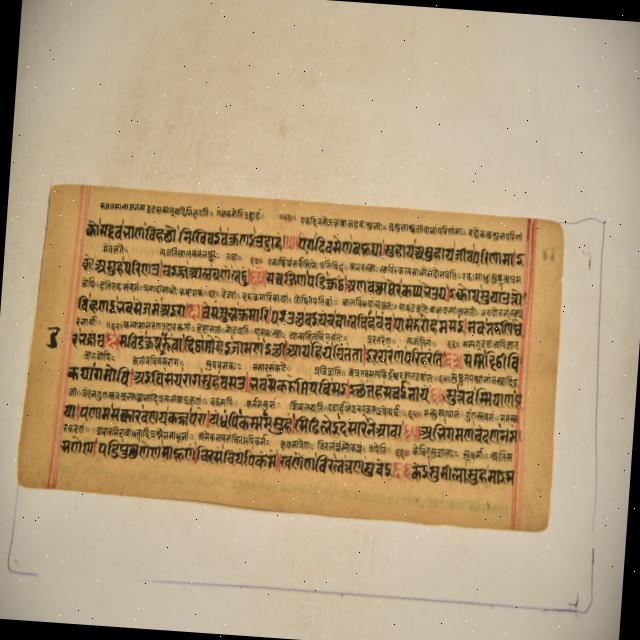text_paragraph: (19, 178, 562, 528)
